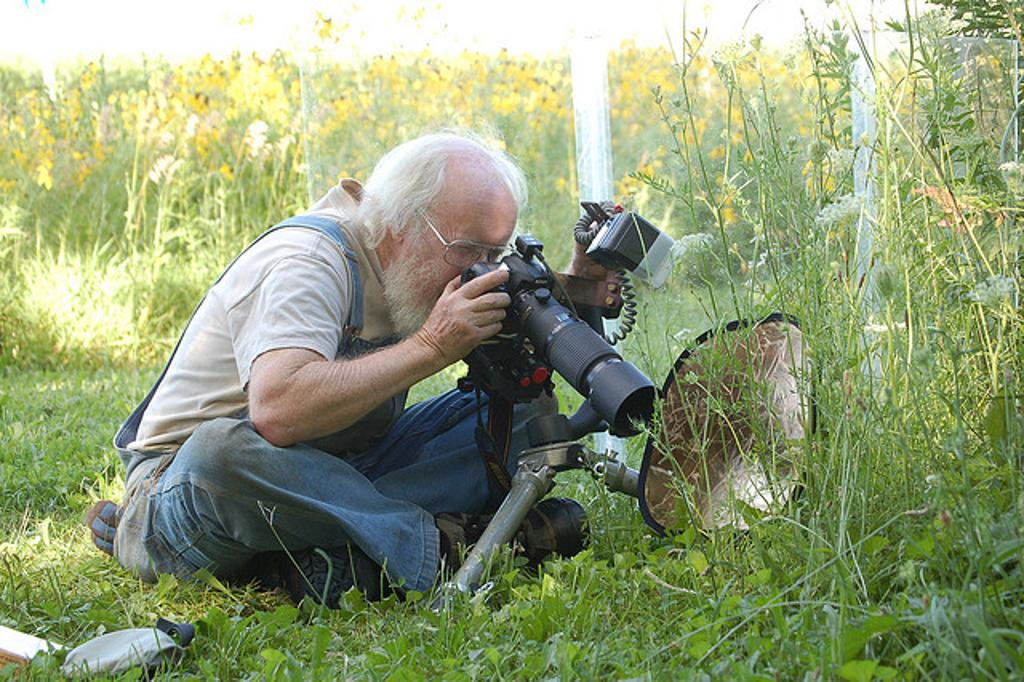face: (400, 168, 516, 326)
